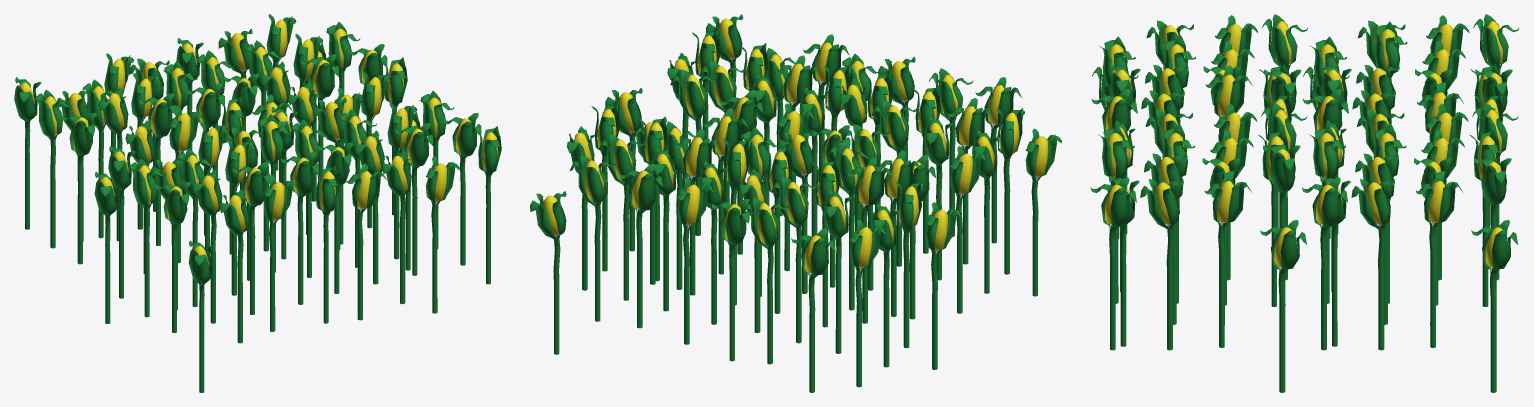
File: Milharal.fbx
3 views of the same model, side by side, from view 1: azimuth 30°, elevation 25°; view 2: azimuth 150°, elevation 25°; view 3: azimuth 270°, elevation 25° (orthographic). The views are drawn at different scales.
Visible parts, largest first — view 1: Milharal; view 2: Milharal; view 3: Milharal.
Boxes of the visible parts, x1=… form: Milharal: x1=14, y1=14, x2=501, y2=392; Milharal: x1=530, y1=14, x2=1061, y2=392; Milharal: x1=1090, y1=14, x2=1519, y2=392.
Size of the model in its own units: 772 by 472 by 793.
